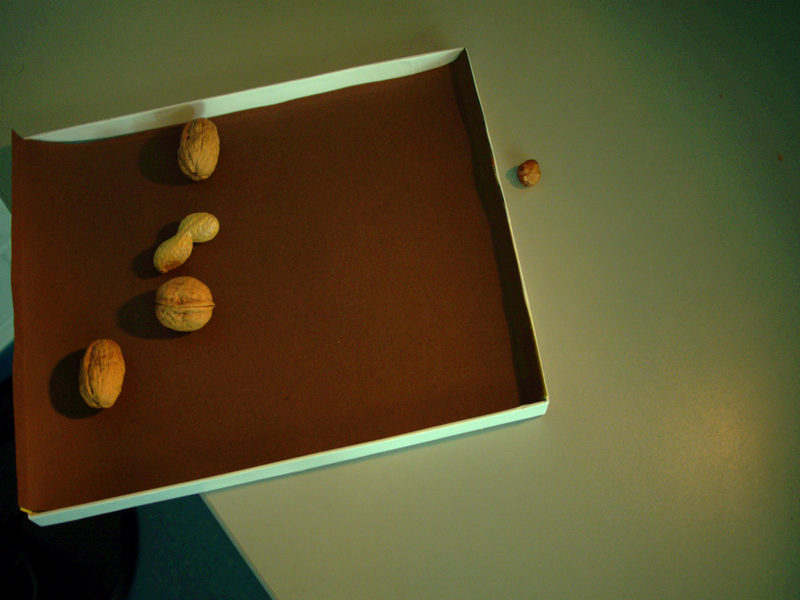walnut: (146, 273, 227, 335), (73, 333, 130, 420), (174, 115, 228, 186)
